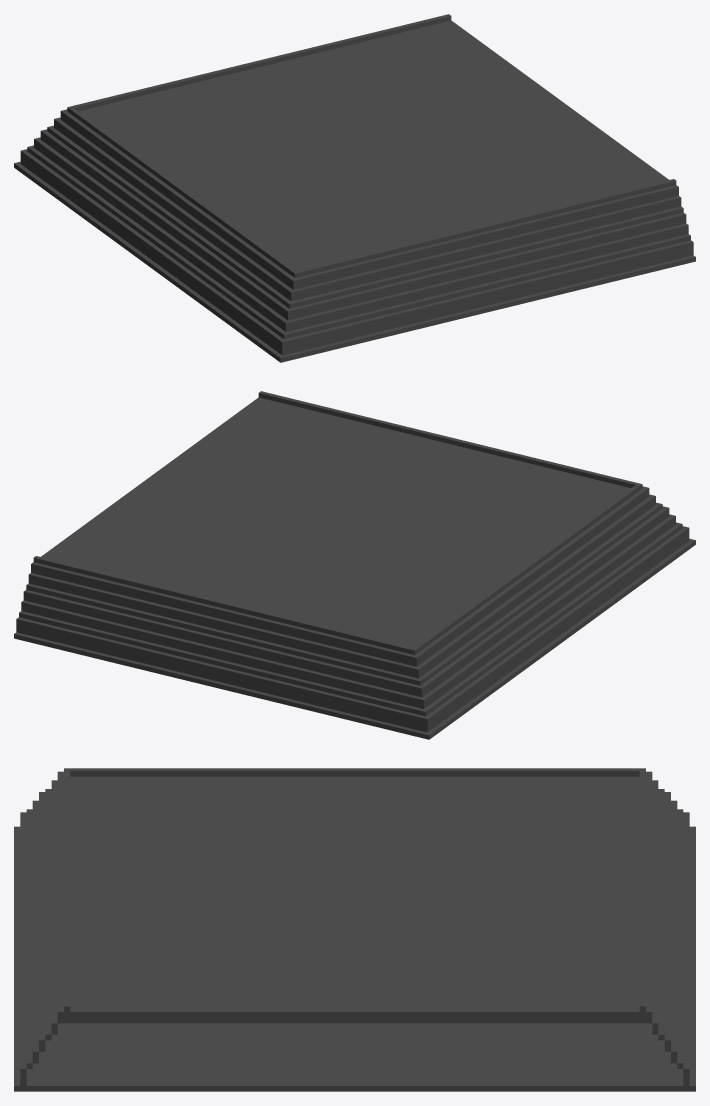
The model's file is casa-1.obj.
3 renders of one model, top to bottom at view 1: azimuth 30°, elevation 25°; view 2: azimuth 150°, elevation 25°; view 3: azimuth 270°, elevation 25°, orthographic. The views are drawn at different scales.
Visible parts, largest first — view 1: casa-1; view 2: casa-1; view 3: casa-1.
Boxes of the visible parts, box(x1,y1,x2,y2) form: casa-1: box(14, 14, 695, 362); casa-1: box(14, 391, 695, 739); casa-1: box(14, 768, 695, 1091).
Size of the model in its own units: 98 by 15 by 109.
